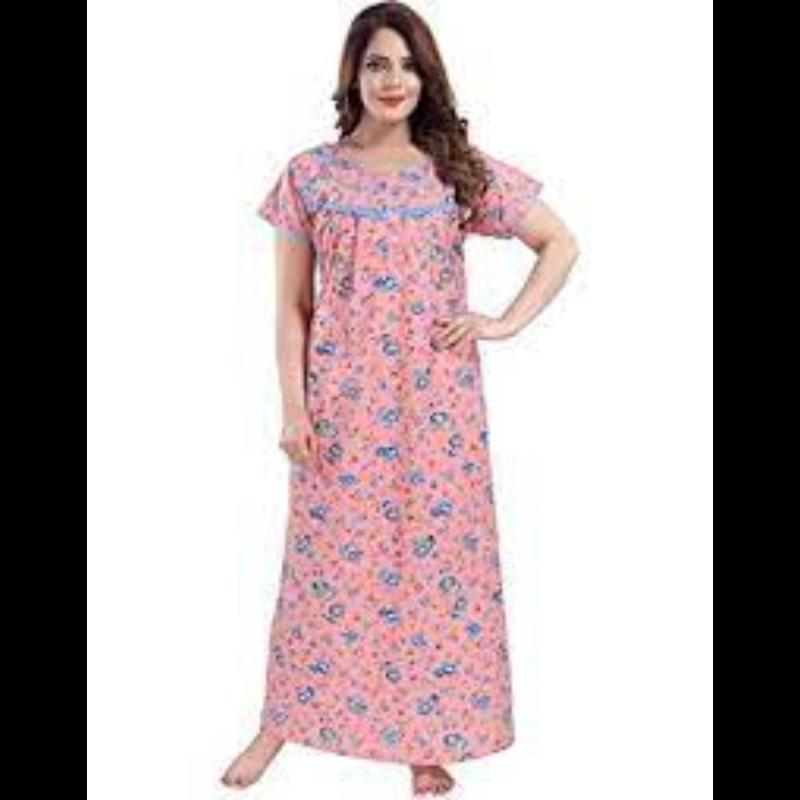Maxi: (206, 133, 552, 774)
